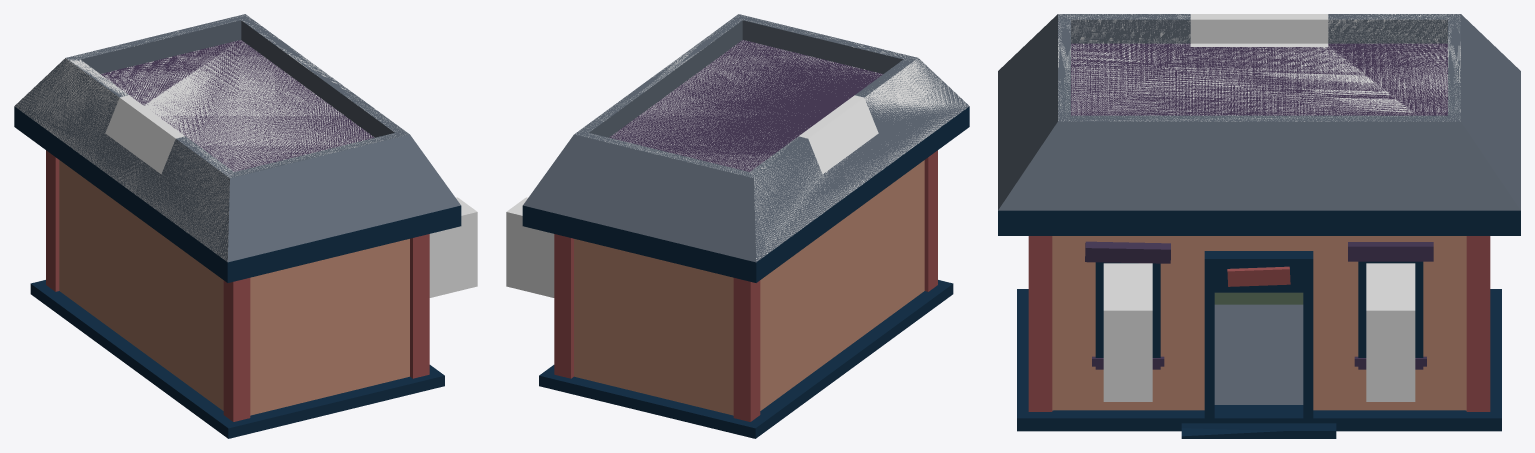
The model's file is House5.fbx.
3 views of the same model, side by side, from view 1: azimuth 30°, elevation 25°; view 2: azimuth 150°, elevation 25°; view 3: azimuth 270°, elevation 25° (orthographic). The views are drawn at different scales.
Visible parts, largest first — view 1: Cube.016, Cube.018, Cube.001, Cube.002, Cube.011, Cube.010, Cube.003, Cube.009; view 2: Cube.016, Cube.001, Cube.002, Cube.018, Cube.011, Cube.010, Cube.003, Cube.009; view 3: Cube.016, Cube, Cube.018, Cube.011, Cube.003, Cube.009, Cube.005, Cube.006, Cube.012, Cube.015, Cube.008, Cube.004 (+3 smaller).
Part boxes in pixels (x1,y1,x2,y2): Cube.016: (14, 14, 461, 282); Cube.018: (14, 15, 405, 261); Cube.001: (250, 239, 409, 415); Cube.002: (59, 160, 223, 410); Cube.011: (30, 280, 444, 438); Cube.010: (46, 150, 250, 421); Cube.003: (429, 197, 477, 297); Cube.009: (410, 234, 429, 378); Cube.016: (522, 14, 969, 282); Cube.001: (574, 239, 733, 415); Cube.002: (760, 160, 924, 410); Cube.018: (574, 14, 968, 260); Cube.011: (539, 280, 953, 438); Cube.010: (733, 150, 937, 421); Cube.003: (506, 197, 554, 297); Cube.009: (554, 234, 573, 378); Cube.016: (998, 14, 1520, 235); Cube: (1053, 236, 1465, 410); Cube.018: (1058, 14, 1460, 121); Cube.011: (1017, 289, 1501, 431); Cube.003: (1103, 263, 1415, 401); Cube.009: (1028, 236, 1490, 411); Cube.005: (1204, 251, 1313, 418); Cube.006: (1095, 261, 1423, 357); Cube.012: (1181, 423, 1336, 438); Cube.015: (1085, 241, 1170, 263); Cube.008: (1348, 242, 1433, 261); Cube.004: (1227, 266, 1290, 286).
Bounding box in the file's own units: 2129 × 1694 × 2686.
